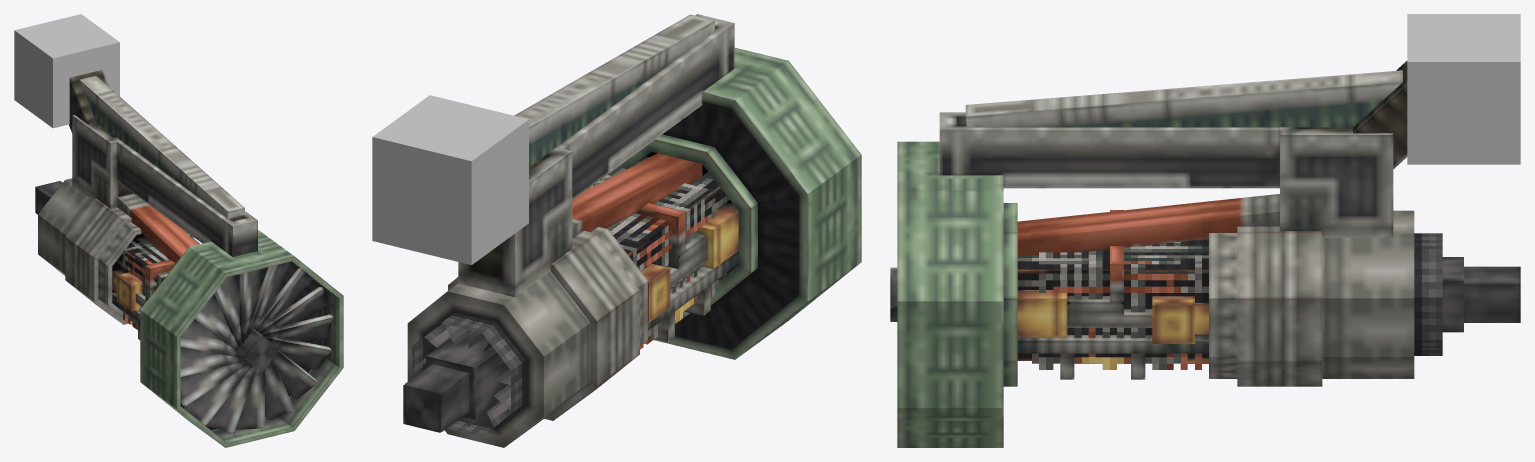
The model's file is block.obj.
3 renders of one model, left to right at view 1: azimuth 30°, elevation 25°; view 2: azimuth 150°, elevation 25°; view 3: azimuth 270°, elevation 25°, orthographic. The views are drawn at different scales.
Parts seen in each view (by area): view 1: turbofan, mesh, jet_casing, mount, sproing, pipetop, junkpopout, 10, 9, 11, 0, 15 (+15 smaller); view 2: jet_casing, mount, turbofan, mesh, chasis, sproing, junkpopout, pipetop, midjunk, unculled, mid, trusses_small; view 3: jet_casing, turbofan, mesh, sproing, mount, junkpopout, pipetop, midjunk, mid, unculled.
Part boxes in pixels (x1,y1,x2,y2): turbofan: [140, 230, 343, 447]; mesh: [72, 115, 257, 256]; jet_casing: [35, 178, 199, 325]; mount: [14, 14, 119, 128]; sproing: [69, 69, 244, 218]; pipetop: [117, 193, 198, 264]; junkpopout: [112, 259, 175, 339]; 10: [183, 363, 252, 425]; 9: [180, 361, 249, 406]; 11: [206, 366, 256, 433]; 0: [261, 314, 333, 342]; 15: [264, 336, 331, 370]; jet_casing: [403, 226, 647, 447]; mount: [372, 95, 528, 264]; turbofan: [605, 47, 861, 356]; mesh: [458, 14, 734, 296]; chasis: [593, 92, 807, 359]; sproing: [514, 14, 714, 179]; junkpopout: [585, 188, 738, 341]; pipetop: [572, 153, 702, 238]; midjunk: [589, 156, 729, 349]; unculled: [412, 312, 525, 436]; mid: [613, 180, 726, 328]; trusses_small: [419, 323, 510, 426]; jet_casing: [1209, 210, 1520, 386]; turbofan: [897, 141, 1017, 447]; mesh: [939, 112, 1393, 237]; sproing: [965, 61, 1407, 169]; mount: [1407, 14, 1520, 164]; junkpopout: [1017, 210, 1208, 379]; pipetop: [1017, 194, 1279, 255]; midjunk: [1017, 238, 1208, 369]; mid: [1017, 240, 1208, 360]; unculled: [1414, 233, 1442, 355].
Bounding box in the file's own units: 2.5 × 3.75 × 5.56.
